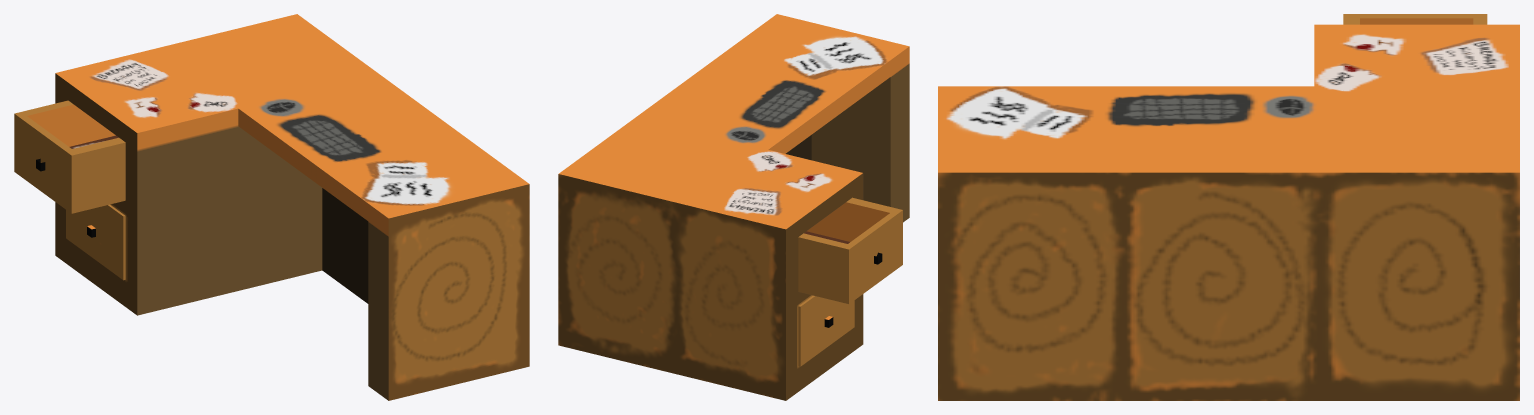
The model's file is dad desk.fbx.
The picture shows the model from 3 angles, left to right: view 1: azimuth 30°, elevation 25°; view 2: azimuth 150°, elevation 25°; view 3: azimuth 270°, elevation 25°; orthographic projection. The views are drawn at different scales.
Parts seen in each view (by area): view 1: Cube; view 2: Cube; view 3: Cube.
Part boxes in pixels (x1,y1,x2,y2): Cube: (14, 14, 529, 400); Cube: (558, 14, 909, 400); Cube: (938, 14, 1519, 400).
Bounding box in the file's own units: 439 × 255 × 588.
